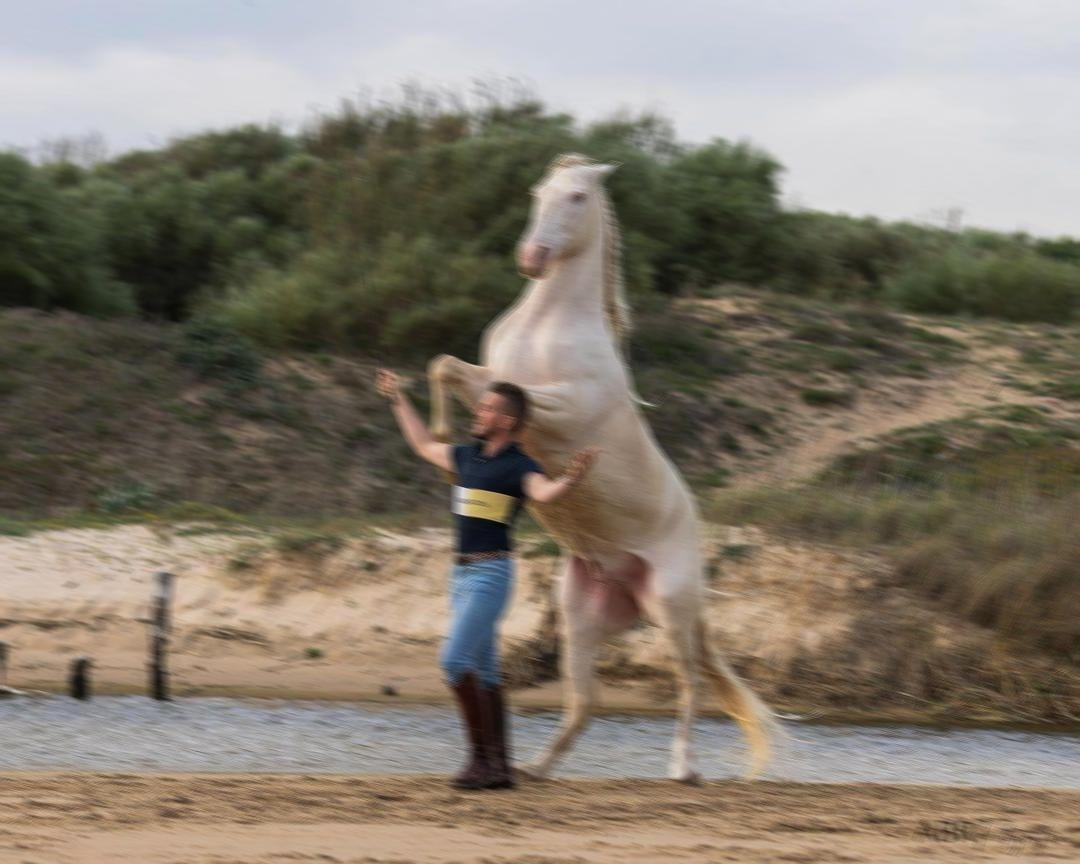horse: (424, 150, 820, 786)
